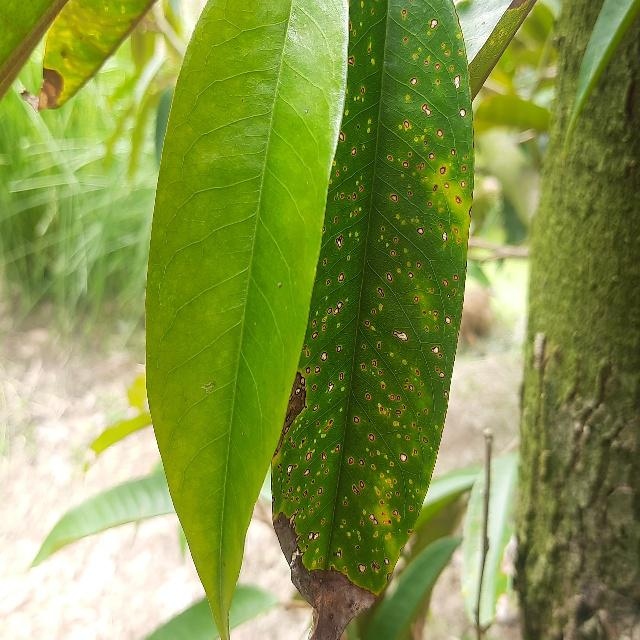Leaf Spot: (264, 0, 482, 639)
No Disease: (139, 0, 345, 639)
